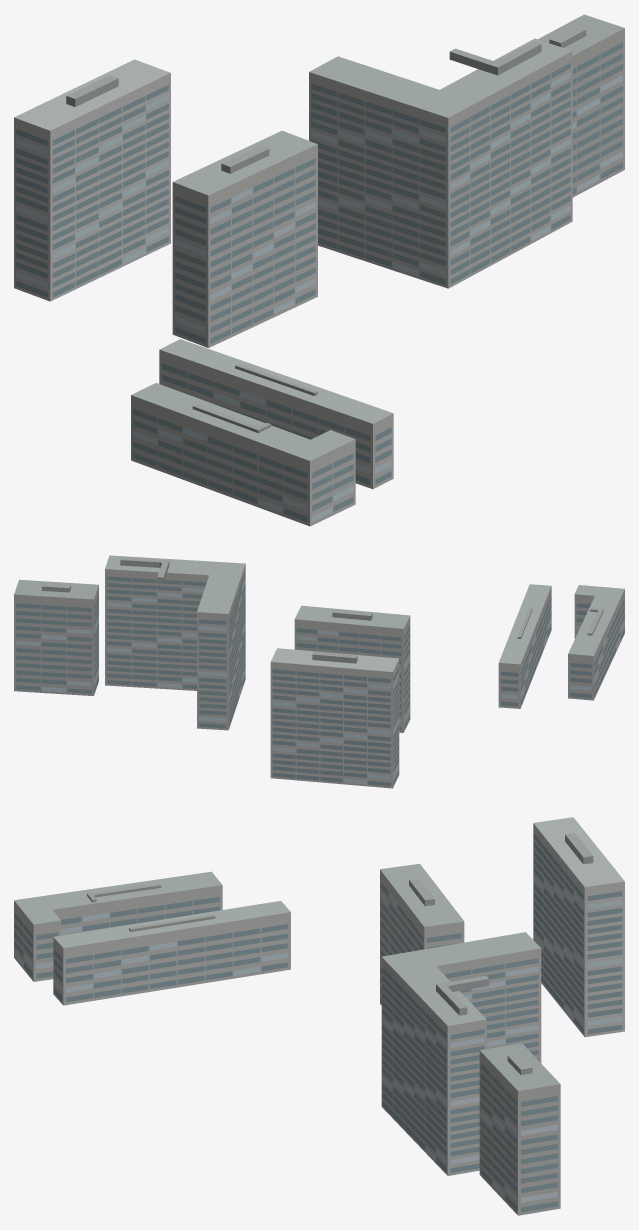
The model's file is apt-a12078705.glb.
The picture shows the model from 3 angles, top to bottom: view 1: azimuth 30°, elevation 25°; view 2: azimuth 150°, elevation 25°; view 3: azimuth 270°, elevation 25°; orthographic projection. The views are drawn at different scales.
Parts seen in each view (by area): view 1: apt-a12078705; view 2: apt-a12078705; view 3: apt-a12078705.
Boxes of the visible parts, x1,y1,x2,y2 form: apt-a12078705: (14,14,624,526); apt-a12078705: (14,555,624,788); apt-a12078705: (14,817,624,1215).
Size of the model in its own units: 196 by 50 by 176.
